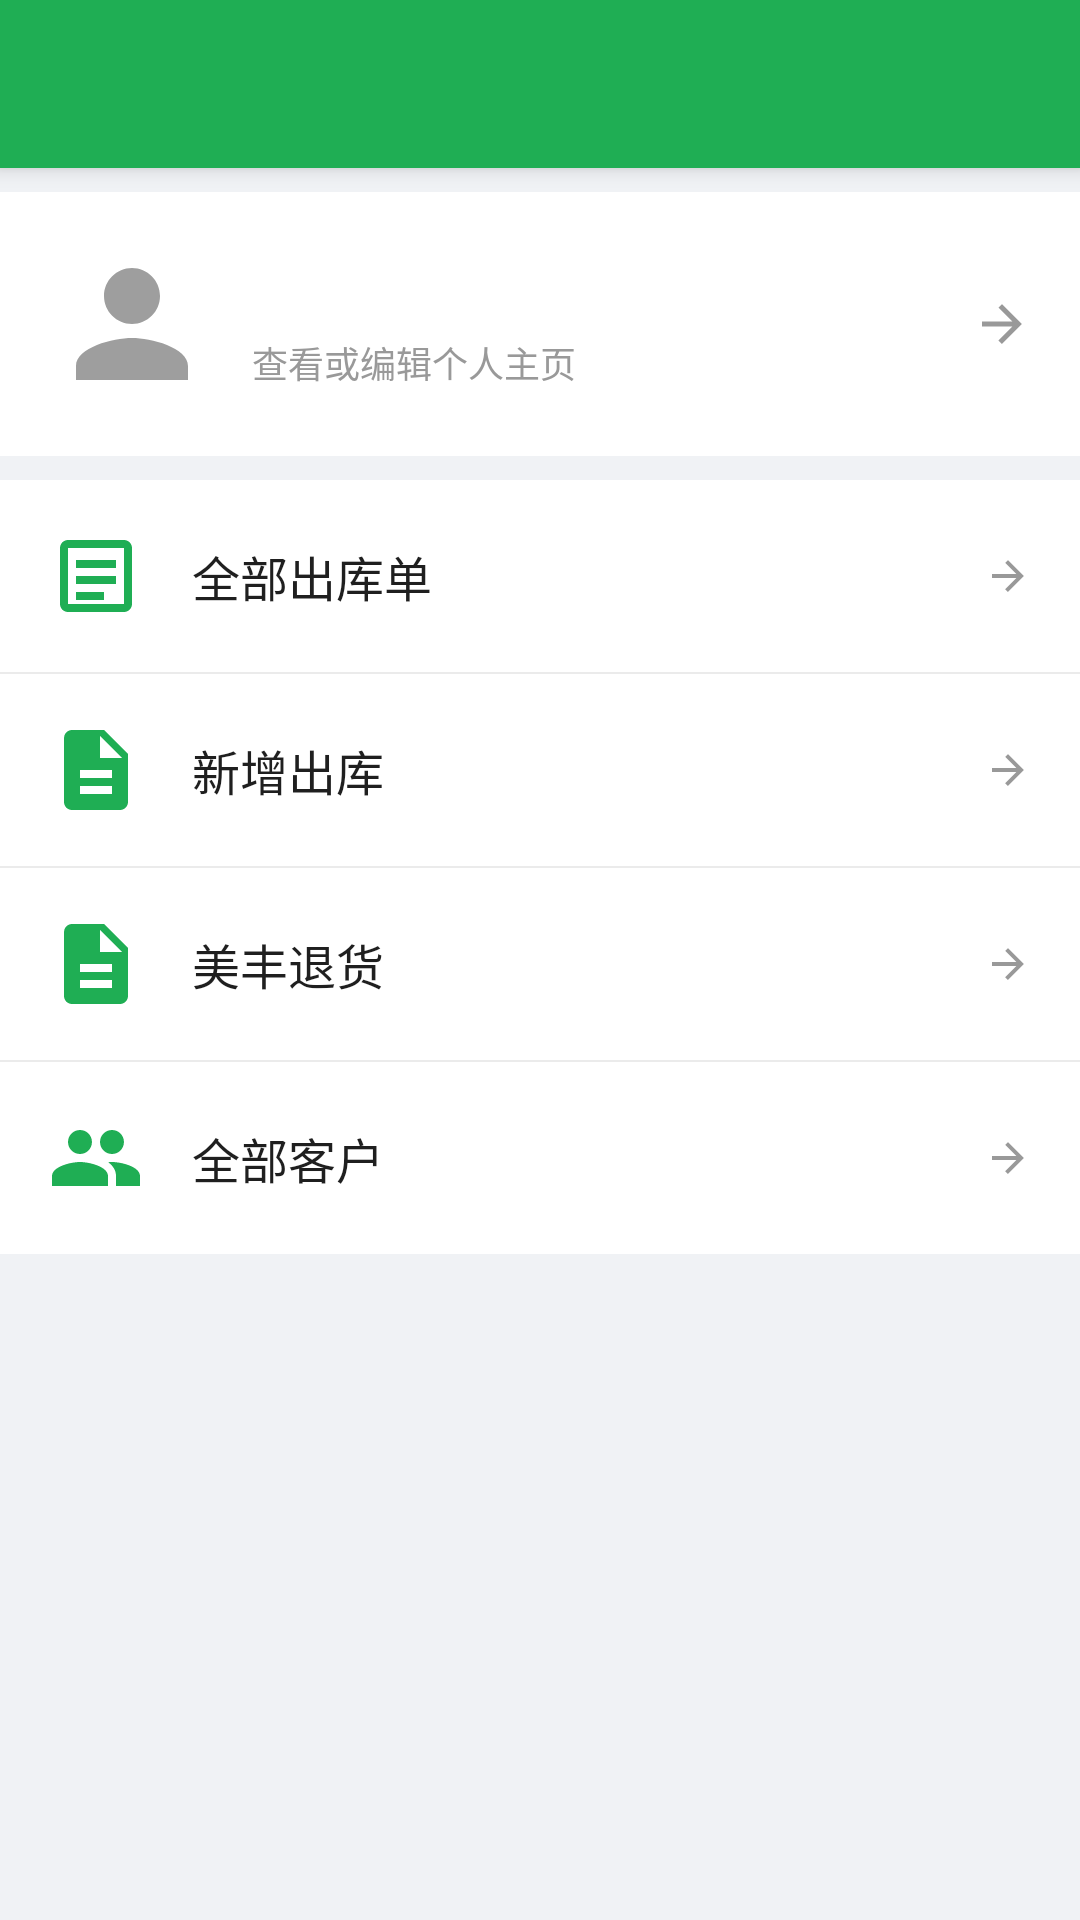

Named icons in this screenshot (1080 × 1920) and their centers, point (x, y):
mime customer: point (96, 1158)
